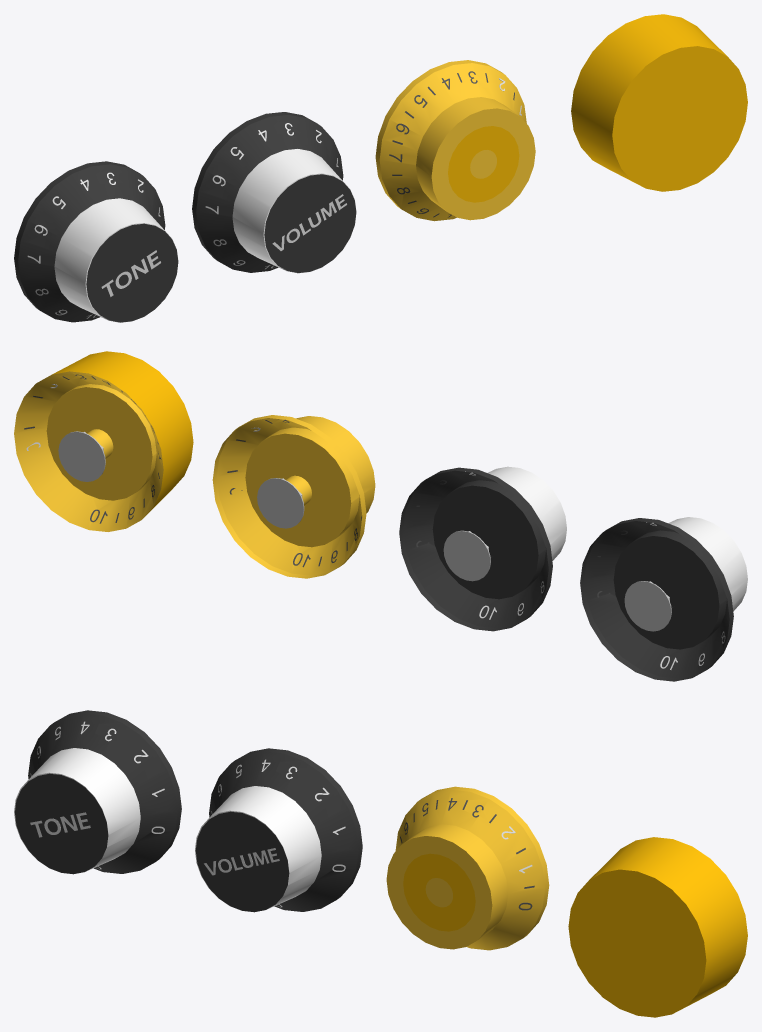
File: KNOB.fbx
The picture shows the model from 3 angles, top to bottom: view 1: azimuth 30°, elevation 25°; view 2: azimuth 150°, elevation 25°; view 3: azimuth 330°, elevation 25°; orthographic projection.
Visible parts, largest first — view 1: Group_001, Group_015, Group_005, Group_009, Group_004, Group_013; view 2: Group_001, Group_005, Group_015, Group_009, Group_011, Group_003; view 3: Group_001, Group_005, Group_015, Group_009, Group_004, Group_013.
Boxes of the visible parts, box(x1,y1,x2,y2) form: Group_001: box(571, 14, 747, 191); Group_015: box(14, 161, 178, 322); Group_005: box(192, 112, 356, 273); Group_009: box(375, 60, 535, 221); Group_004: box(272, 194, 346, 250); Group_013: box(101, 250, 160, 296); Group_001: box(14, 351, 193, 531); Group_005: box(399, 466, 566, 631); Group_015: box(580, 517, 747, 681); Group_009: box(212, 415, 375, 578); Group_011: box(257, 478, 304, 528); Group_003: box(58, 431, 105, 481); Group_001: box(568, 837, 747, 1017); Group_005: box(195, 748, 362, 912); Group_015: box(14, 710, 181, 874); Group_009: box(386, 786, 549, 950); Group_004: box(204, 848, 279, 875); Group_013: box(30, 812, 90, 837).
Bounding box in the file's own units: 4.95 × 1.12 × 0.6298.
